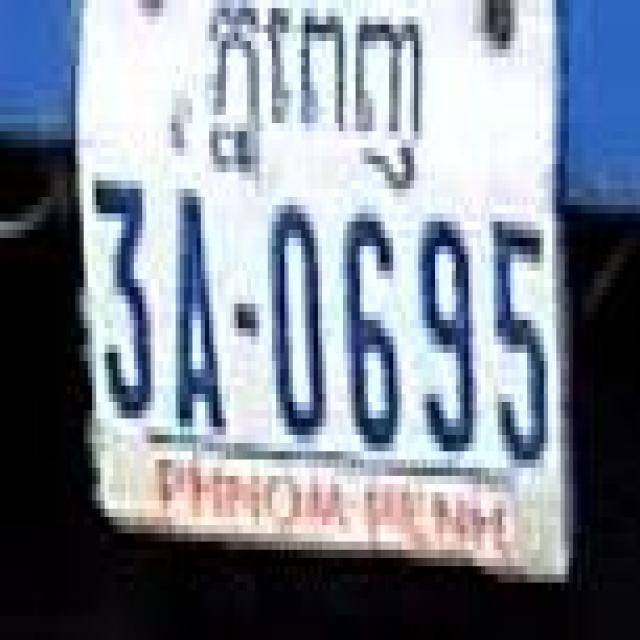Phnom_Penh: (209, 0, 424, 186)
